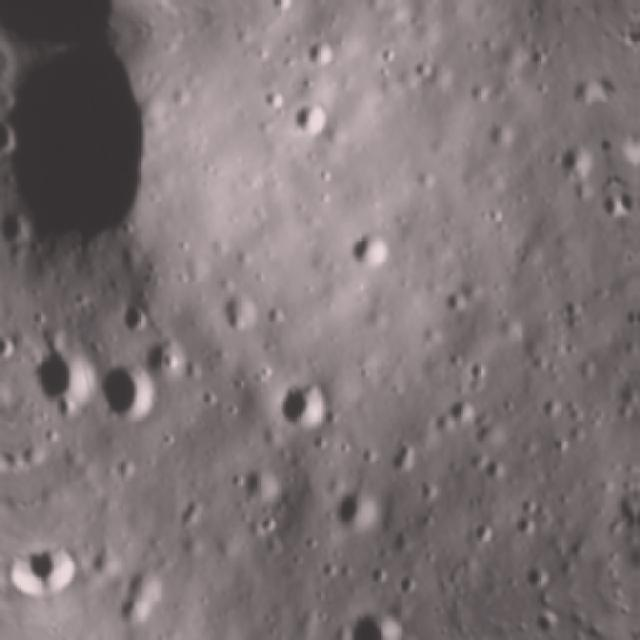crater: (0, 28, 195, 283), (28, 337, 110, 420), (334, 583, 424, 640), (100, 354, 168, 429), (267, 371, 341, 435), (323, 481, 392, 541), (346, 212, 408, 278), (118, 561, 176, 616), (40, 534, 88, 600), (217, 281, 269, 341), (550, 133, 602, 189), (298, 26, 352, 76), (240, 451, 288, 504), (290, 93, 336, 144), (0, 201, 37, 253), (118, 291, 158, 338), (518, 547, 558, 591), (257, 80, 295, 120), (0, 110, 23, 161), (626, 253, 640, 305), (474, 600, 512, 614)
